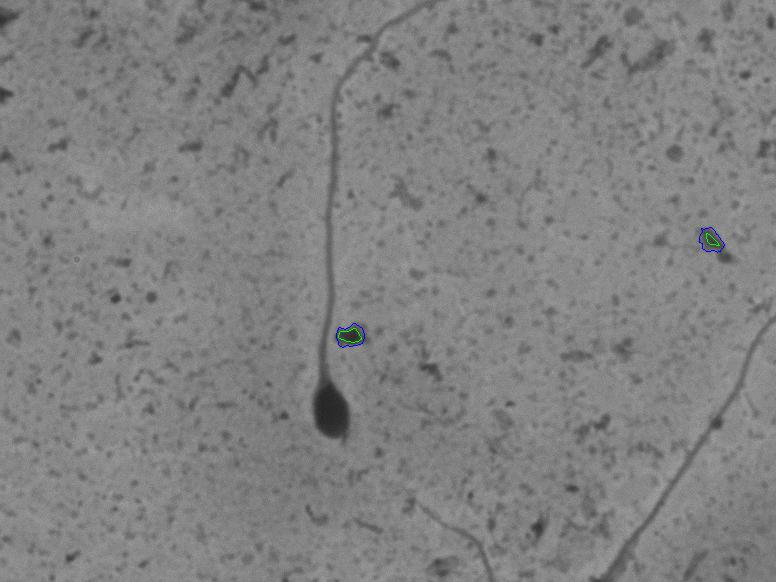Abnormal: (272, 6, 425, 453)
